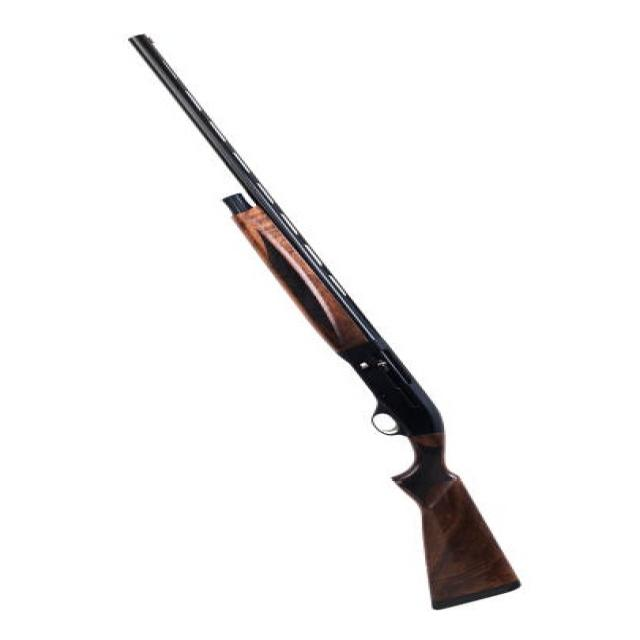rifle: (118, 30, 533, 616)
